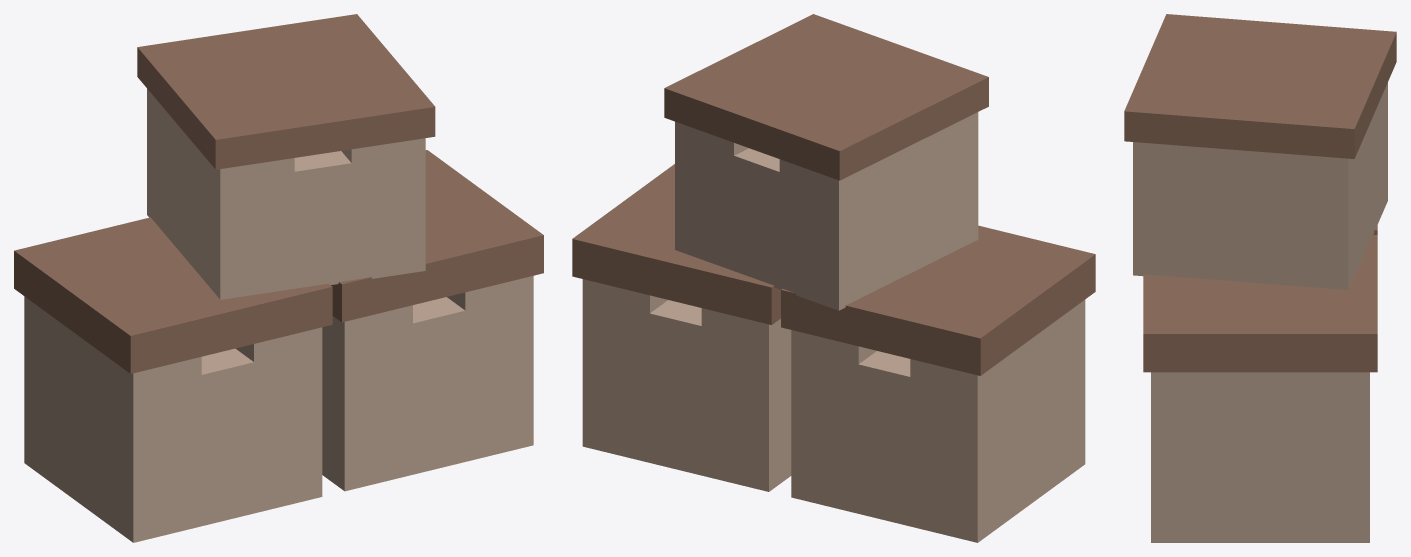
The model's file is MP_Storageroom_Boxes.fbx.
3 renders of one model, left to right at view 1: azimuth 30°, elevation 25°; view 2: azimuth 150°, elevation 25°; view 3: azimuth 270°, elevation 25°, orthographic.
Parts seen in each view (by area): view 1: Cube.001, Cube.005, Cube.004; view 2: Cube.001, Cube.005, Cube.004; view 3: Cube.005, Cube.004.
Boxes of the visible parts, x1=… form: Cube.001: x1=14, y1=217, x2=332, y2=542; Cube.005: x1=137, y1=14, x2=435, y2=299; Cube.004: x1=322, y1=150, x2=543, y2=491; Cube.001: x1=781, y1=225, x2=1095, y2=542; Cube.005: x1=664, y1=14, x2=988, y2=310; Cube.004: x1=572, y1=164, x2=791, y2=491; Cube.005: x1=1124, y1=14, x2=1396, y2=289; Cube.004: x1=1143, y1=235, x2=1377, y2=542.
Bounding box in the file's own units: 101 × 87.34 × 57.21.
